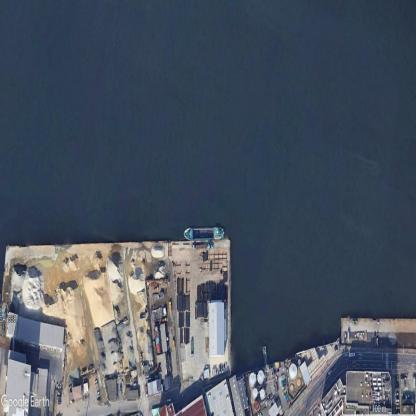ship: (184, 228, 224, 239)
